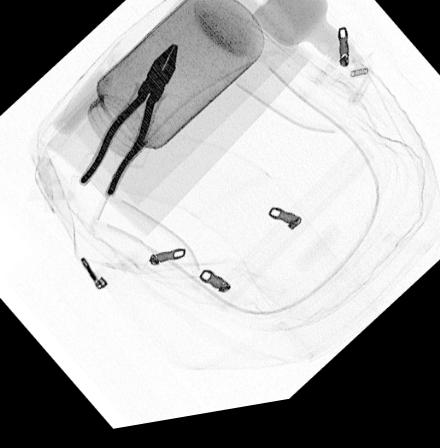Pliers: (76, 47, 179, 202)
